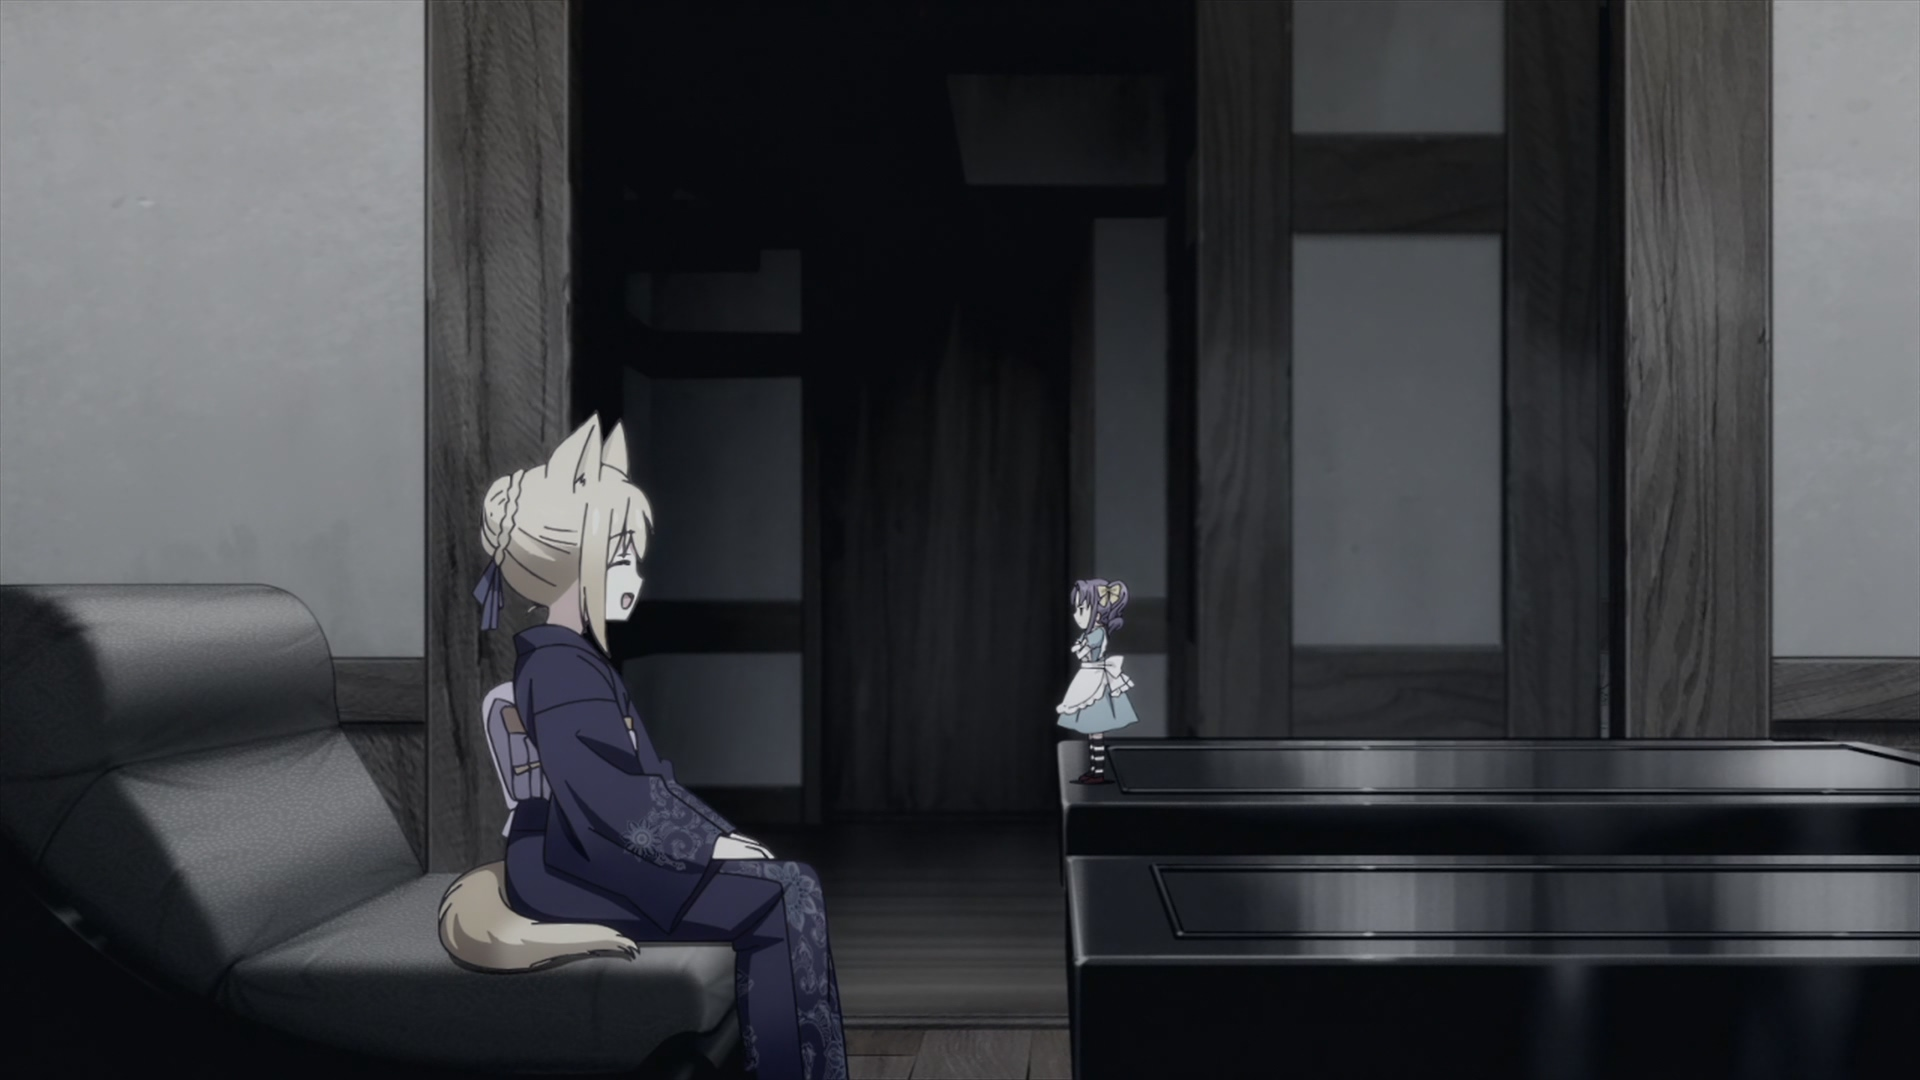桐: (440, 411, 845, 1080)
阿菊: (1055, 578, 1138, 785)
